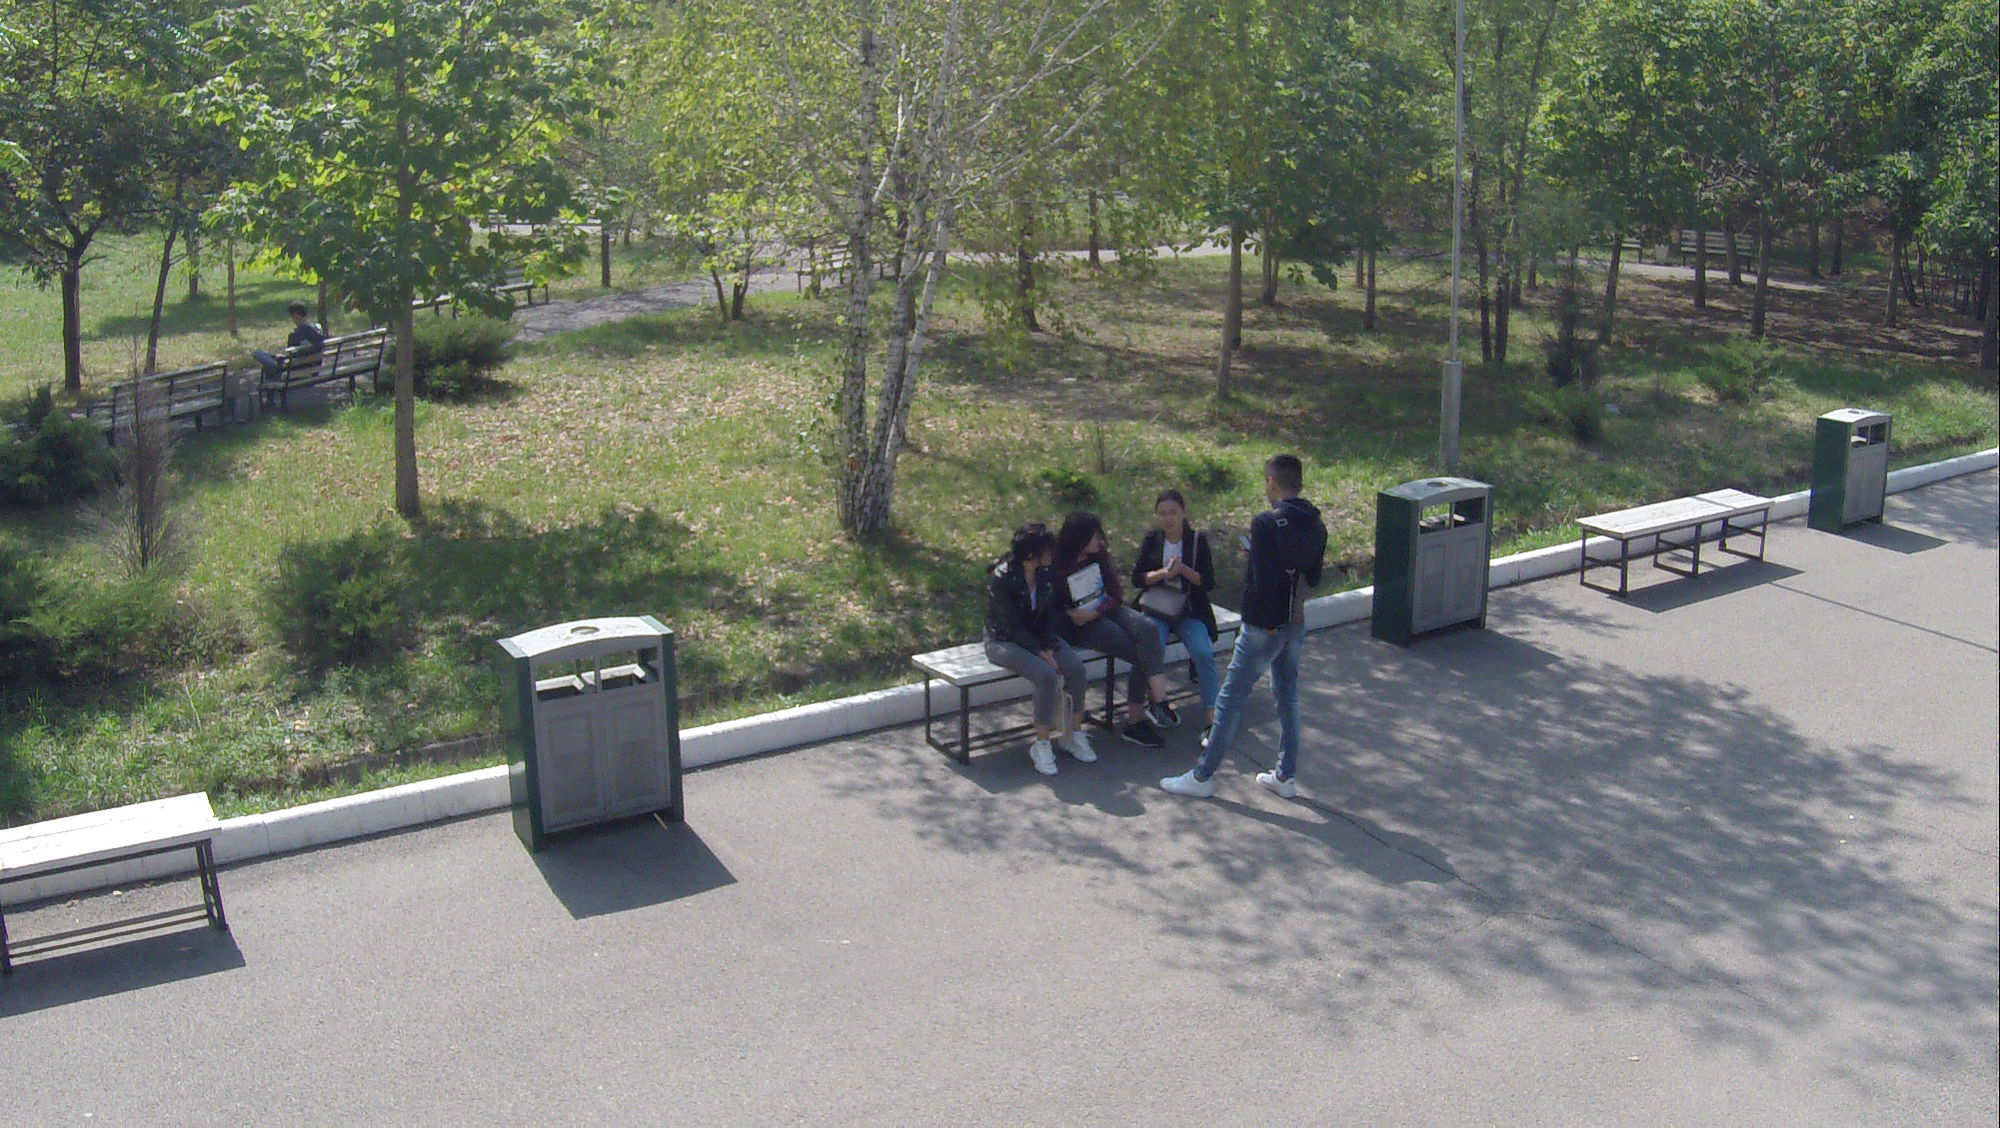person: (1153, 447, 1324, 808), (1051, 508, 1176, 764), (993, 530, 1107, 787), (1141, 489, 1222, 751), (247, 293, 318, 416)
